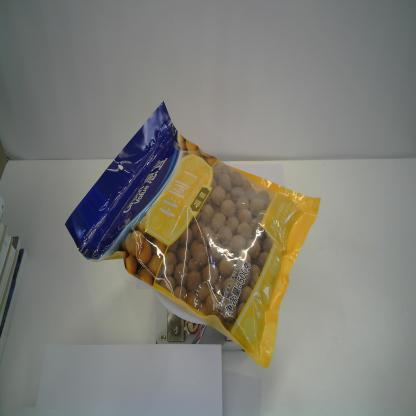Dried Food: (64, 100, 321, 369)
